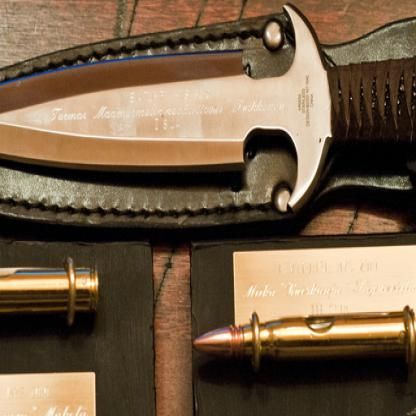knife: (0, 0, 415, 231)
